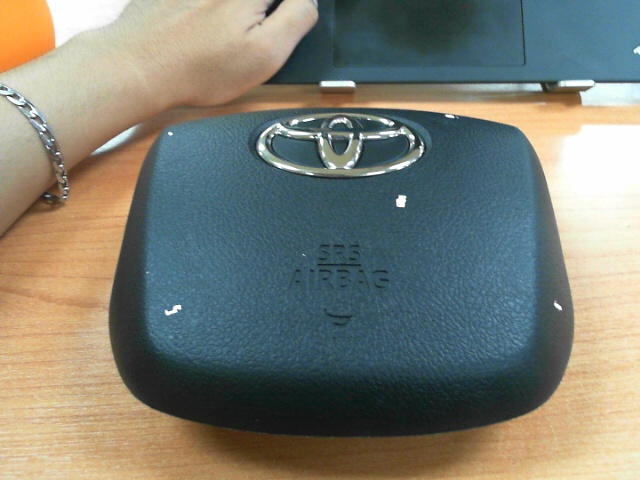Airbag: (164, 304, 182, 317), (394, 194, 408, 208), (553, 300, 563, 311), (444, 114, 456, 119), (168, 132, 173, 136)
